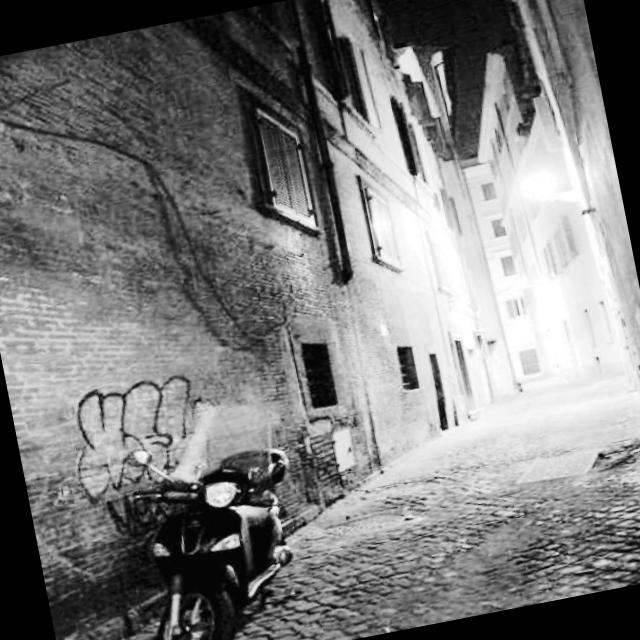Motorcycle: (110, 399, 364, 640)
